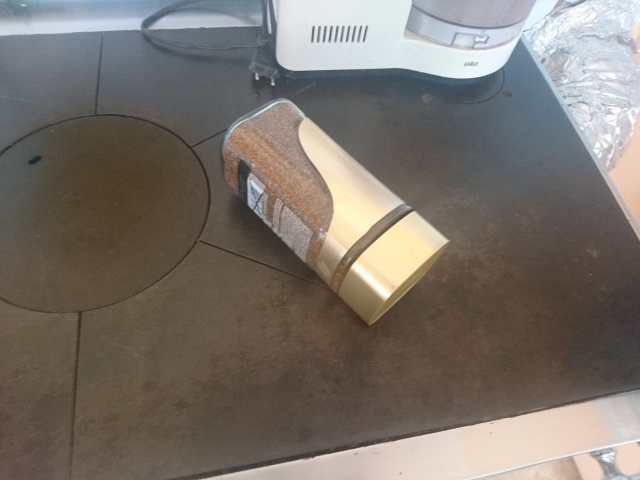Nescafe Gold 225g: (217, 95, 453, 328)
